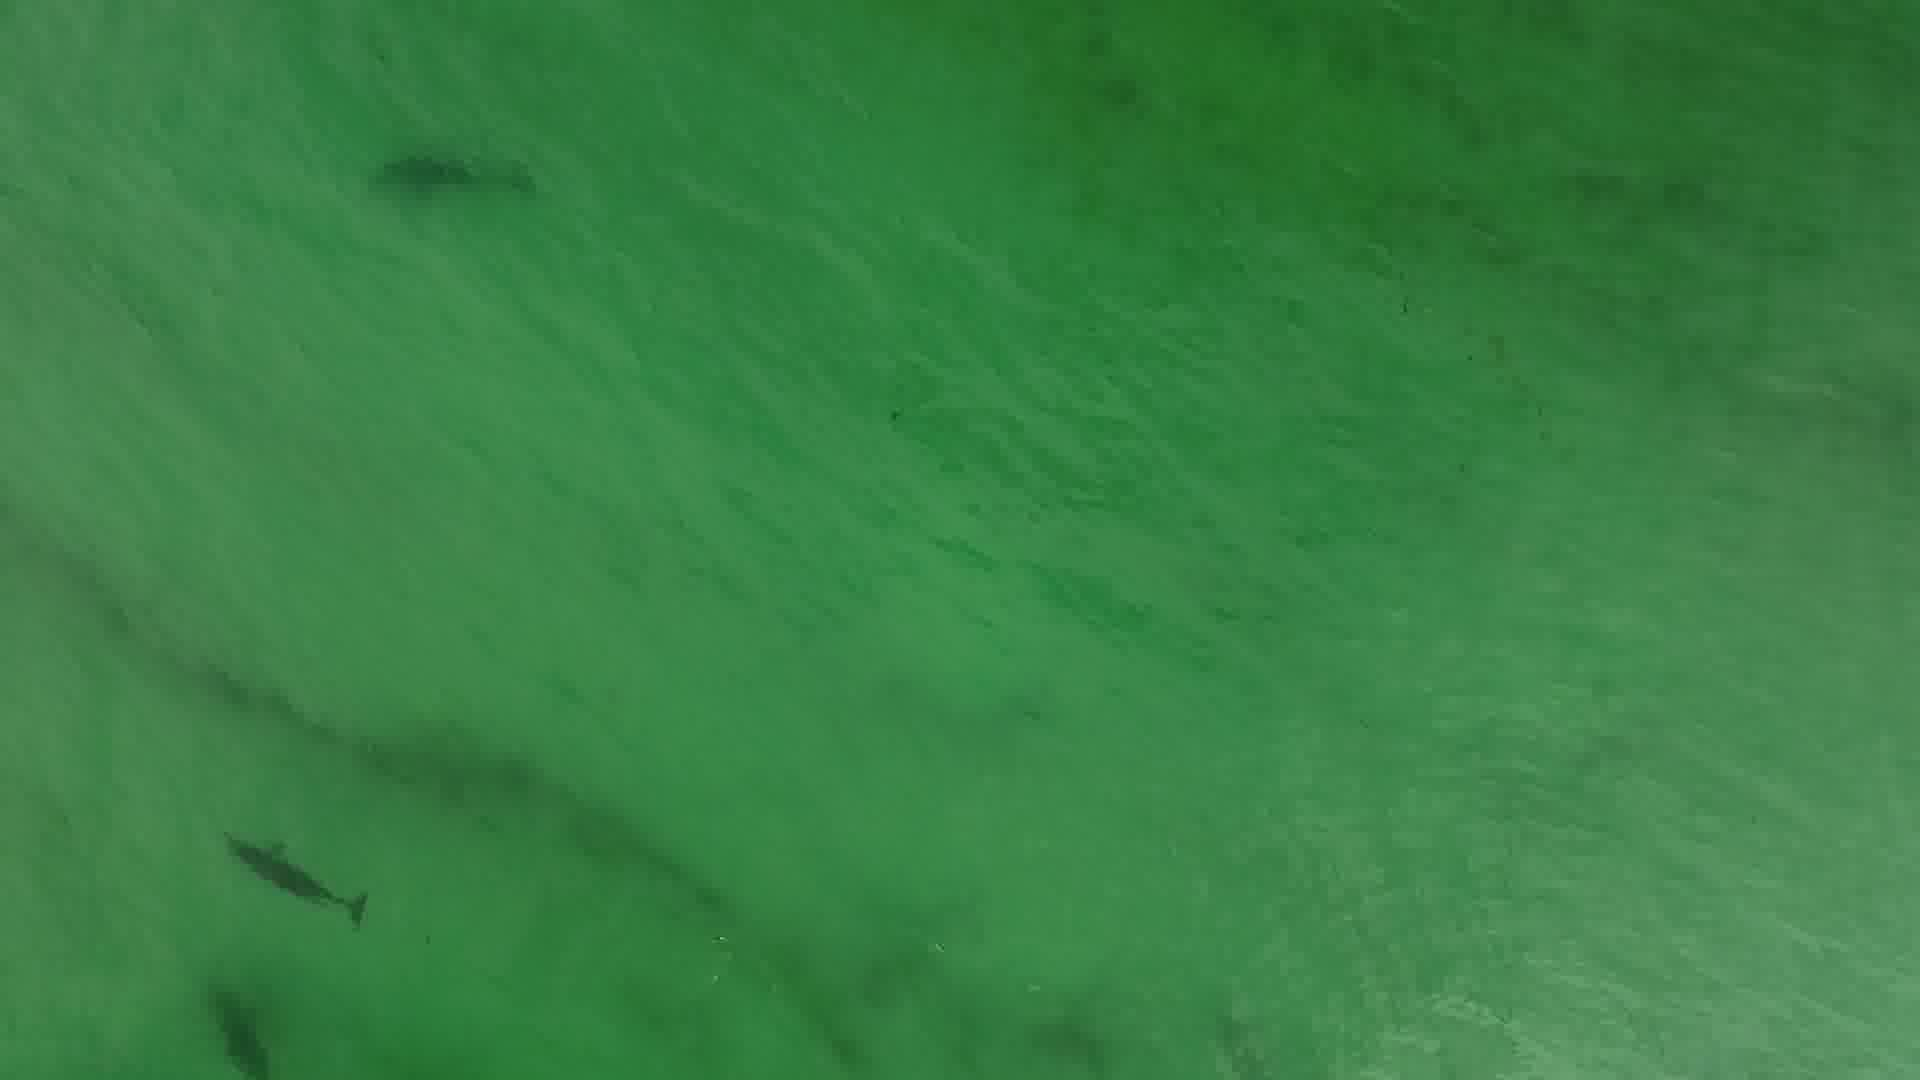dolphin: (211, 799, 392, 951), (171, 964, 281, 1080)
